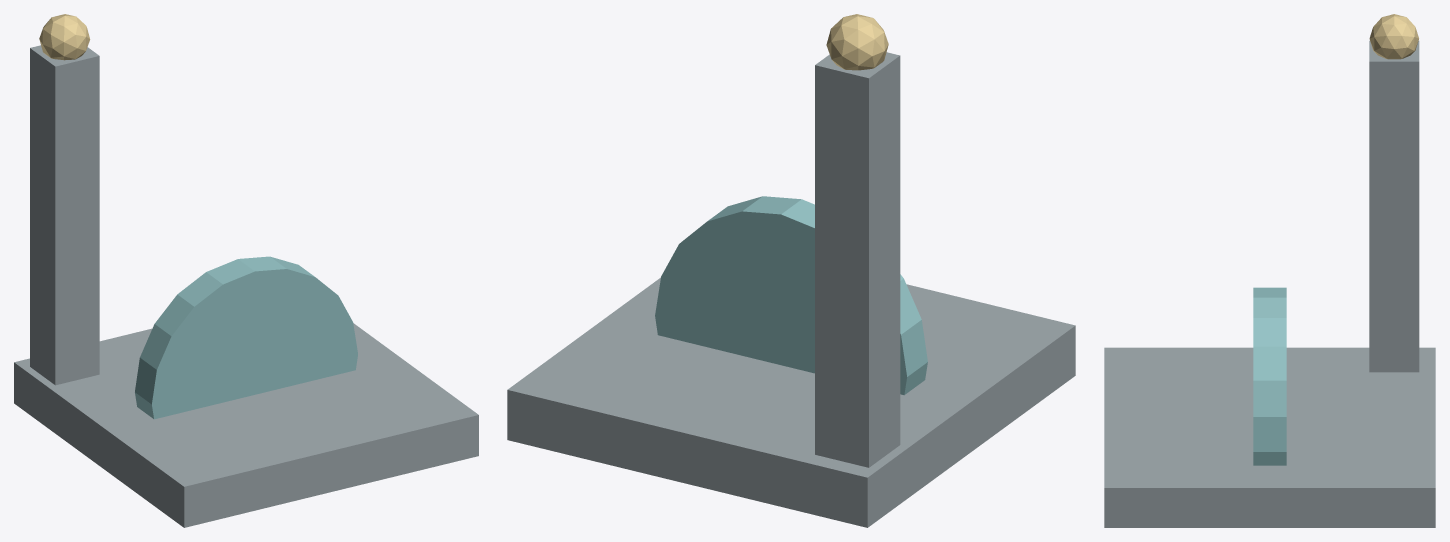
The model's file is bot_charging_station.glb.
3 renders of one model, left to right at view 1: azimuth 30°, elevation 25°; view 2: azimuth 150°, elevation 25°; view 3: azimuth 270°, elevation 25°, orthographic. The views are drawn at different scales.
Visible parts, largest first — view 1: part_00, part_01, part_02, part_03; view 2: part_00, part_02, part_01, part_03; view 3: part_00, part_02, part_01, part_03.
Boxes of the visible parts, left/top/right/bottom form: part_00: left=14, top=323, right=478, bottom=527; part_01: left=135, top=256, right=357, bottom=419; part_02: left=30, top=45, right=99, bottom=385; part_03: left=39, top=14, right=90, bottom=60; part_00: left=507, top=277, right=1075, bottom=527; part_02: left=815, top=52, right=900, bottom=467; part_01: left=655, top=196, right=927, bottom=395; part_03: left=826, top=14, right=888, bottom=70; part_00: left=1104, top=347, right=1435, bottom=527; part_02: left=1369, top=40, right=1419, bottom=372; part_01: left=1253, top=287, right=1286, bottom=465; part_03: left=1369, top=14, right=1418, bottom=59.
Size of the model in its own units: 1.2 by 1.74 by 1.2.
